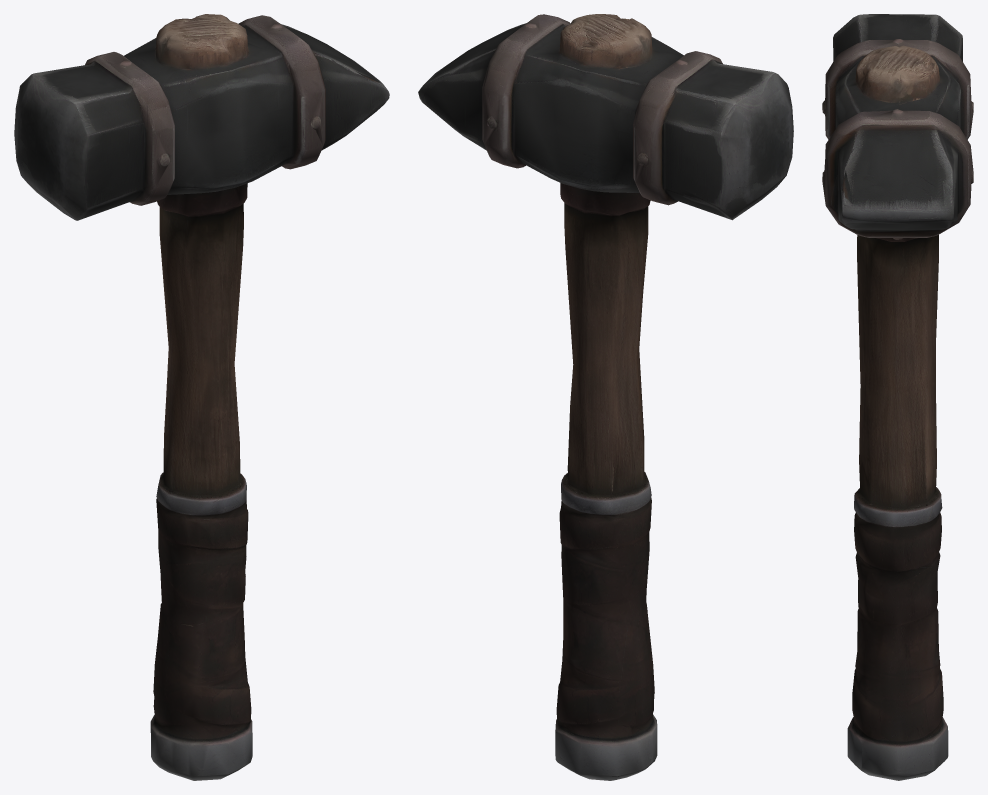
File: mesh_blacksmith_hammer_a.glb
3 renders of one model, left to right at view 1: azimuth 30°, elevation 25°; view 2: azimuth 150°, elevation 25°; view 3: azimuth 270°, elevation 25°, orthographic. The views are drawn at different scales.
Parts seen in each view (by area): view 1: mesh_blacksmith_hammer_a__mesh_blacksmith_hammer_a__Mesh_0; view 2: mesh_blacksmith_hammer_a__mesh_blacksmith_hammer_a__Mesh_0; view 3: mesh_blacksmith_hammer_a__mesh_blacksmith_hammer_a__Mesh_0.
Part boxes in pixels (bbox=[...]): mesh_blacksmith_hammer_a__mesh_blacksmith_hammer_a__Mesh_0: bbox=[14, 14, 389, 780]; mesh_blacksmith_hammer_a__mesh_blacksmith_hammer_a__Mesh_0: bbox=[418, 14, 793, 780]; mesh_blacksmith_hammer_a__mesh_blacksmith_hammer_a__Mesh_0: bbox=[822, 14, 973, 780].
Bounding box in the file's own units: 1.38 × 3 × 0.5818.
Materials: 1 (1 with a texture image).
